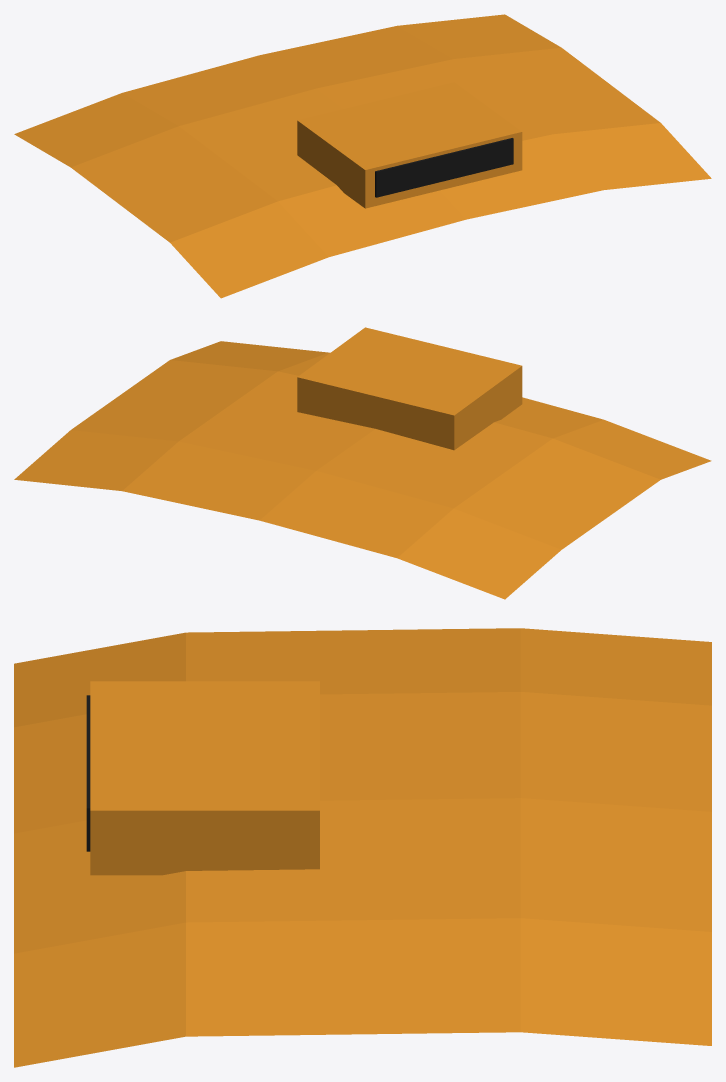
Rendered from protoCoupe_roof_hayate.glb.
The picture shows the model from 3 angles, top to bottom: view 1: azimuth 30°, elevation 25°; view 2: azimuth 150°, elevation 25°; view 3: azimuth 270°, elevation 25°; orthographic projection. The views are drawn at different scales.
Parts seen in each view (by area): view 1: roof_hayate; view 2: roof_hayate; view 3: roof_hayate.
Boxes of the visible parts, x1,y1,x2,y2 form: roof_hayate: (14,14,711,298); roof_hayate: (14,327,711,599); roof_hayate: (14,628,711,1067).
Bounding box in the file's own units: 1 × 0.1383 × 0.7299.
